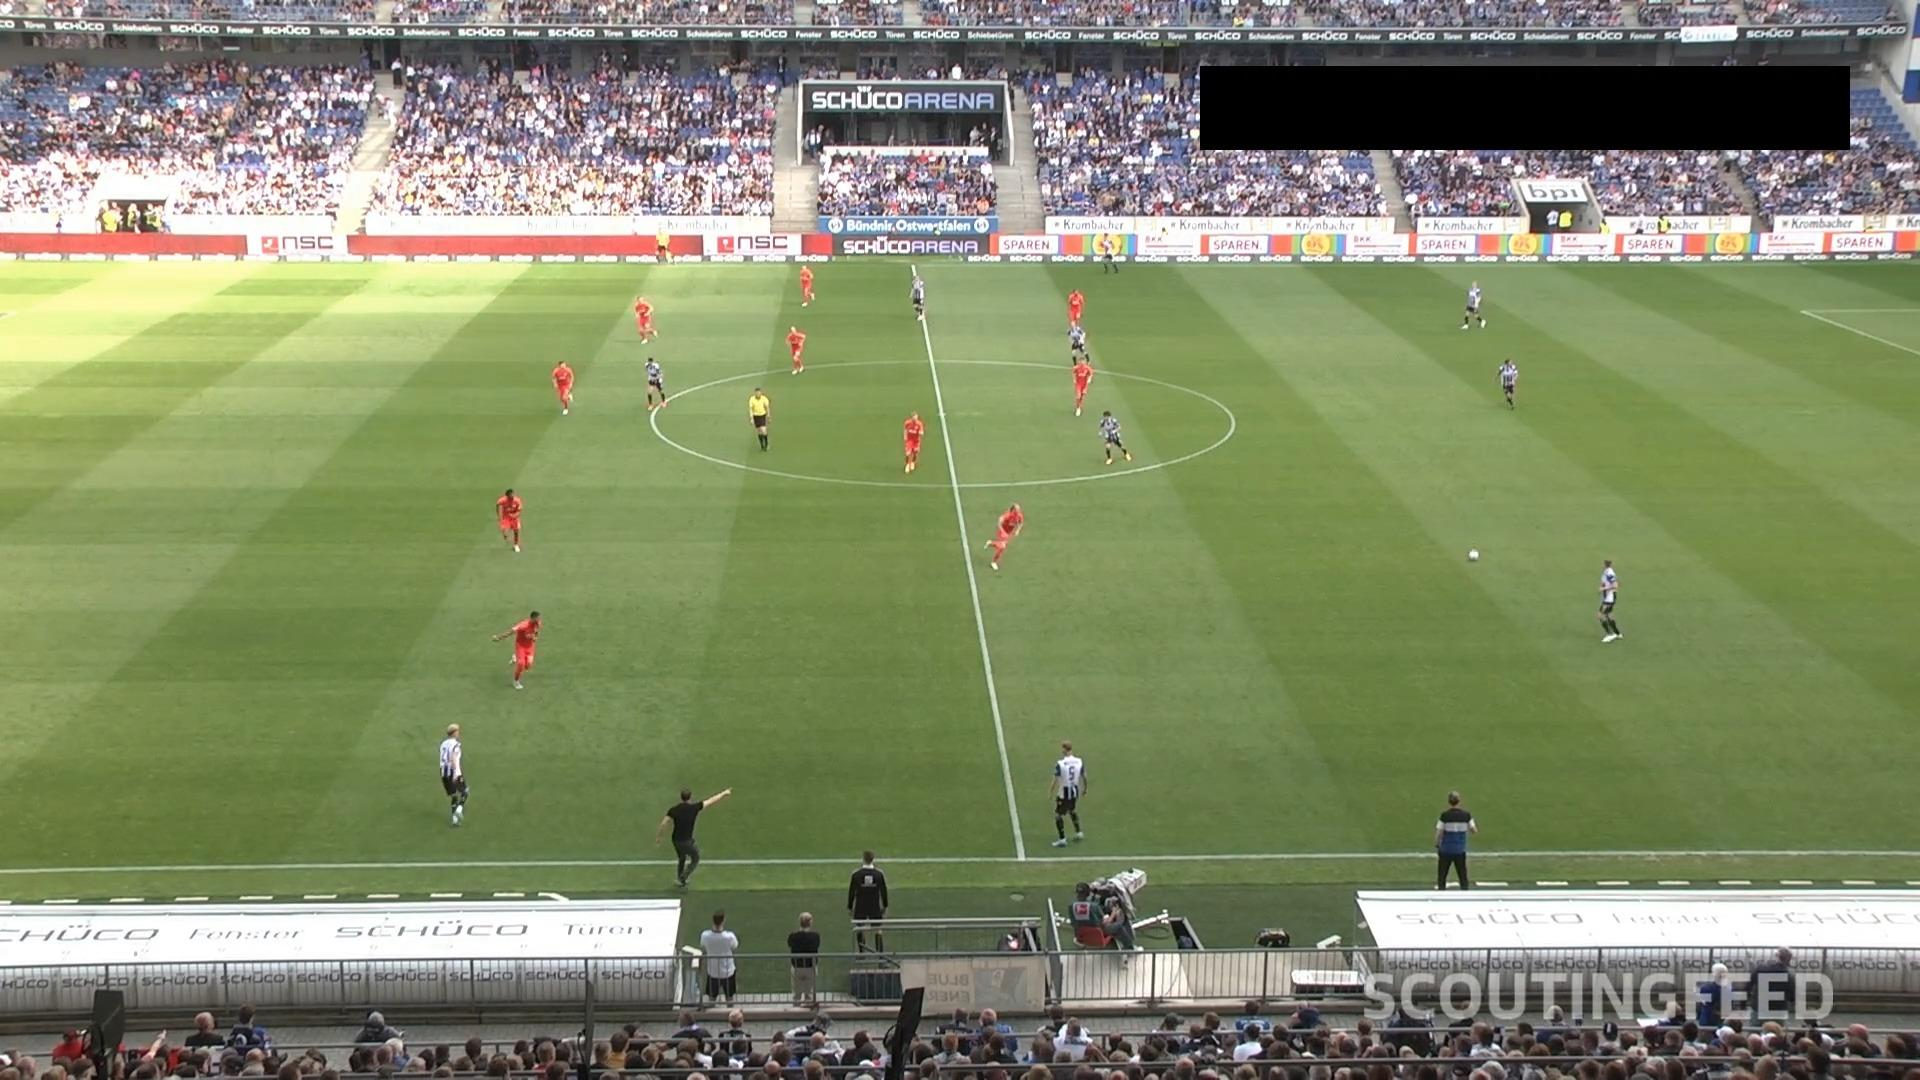ball: (1468, 547, 1480, 562)
